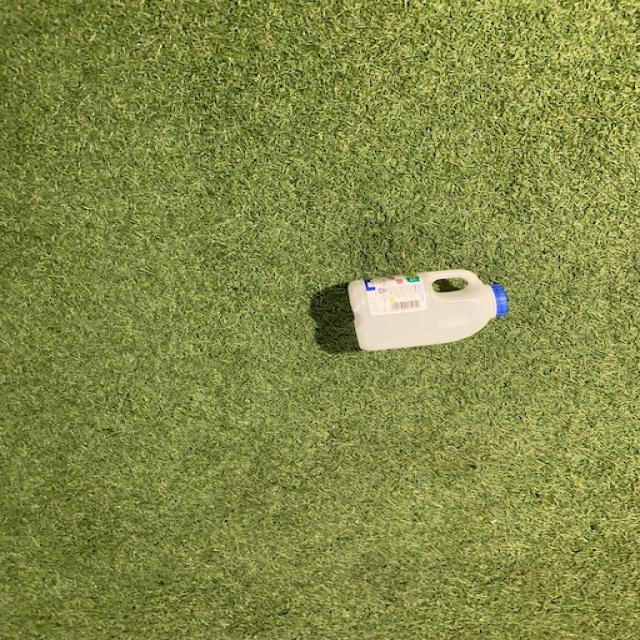litter: (346, 268, 510, 354)
